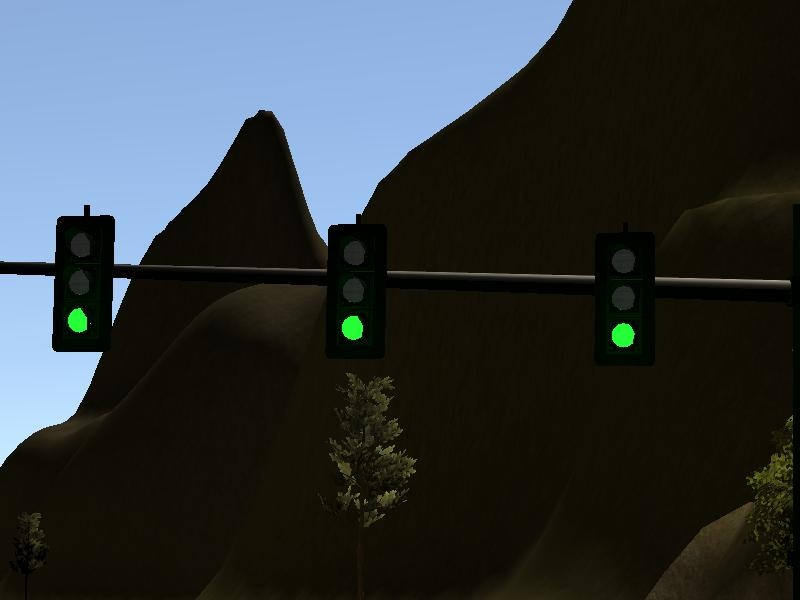green: (46, 204, 124, 359), (587, 228, 664, 366), (322, 215, 389, 366)
